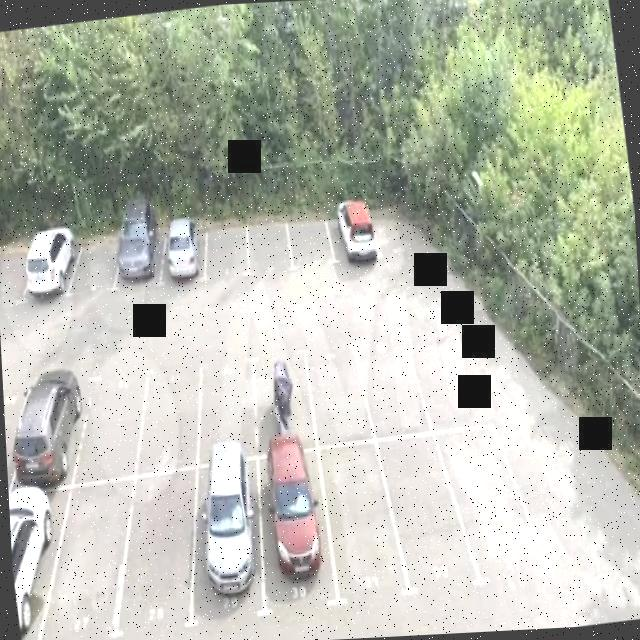car: (182, 452, 274, 636), (246, 447, 336, 620), (6, 364, 94, 494), (8, 484, 81, 640), (248, 350, 318, 456), (106, 218, 174, 308), (16, 220, 77, 320), (322, 202, 380, 279), (160, 218, 209, 296)
free: (104, 462, 214, 640), (32, 478, 143, 640), (434, 418, 536, 580), (314, 436, 399, 617), (381, 431, 455, 604), (64, 358, 149, 485), (190, 346, 262, 465), (132, 358, 204, 472), (355, 324, 419, 436), (305, 340, 370, 441), (56, 224, 128, 309), (200, 219, 254, 299), (241, 214, 291, 284), (2, 376, 30, 491), (0, 231, 33, 328), (282, 214, 330, 275)
